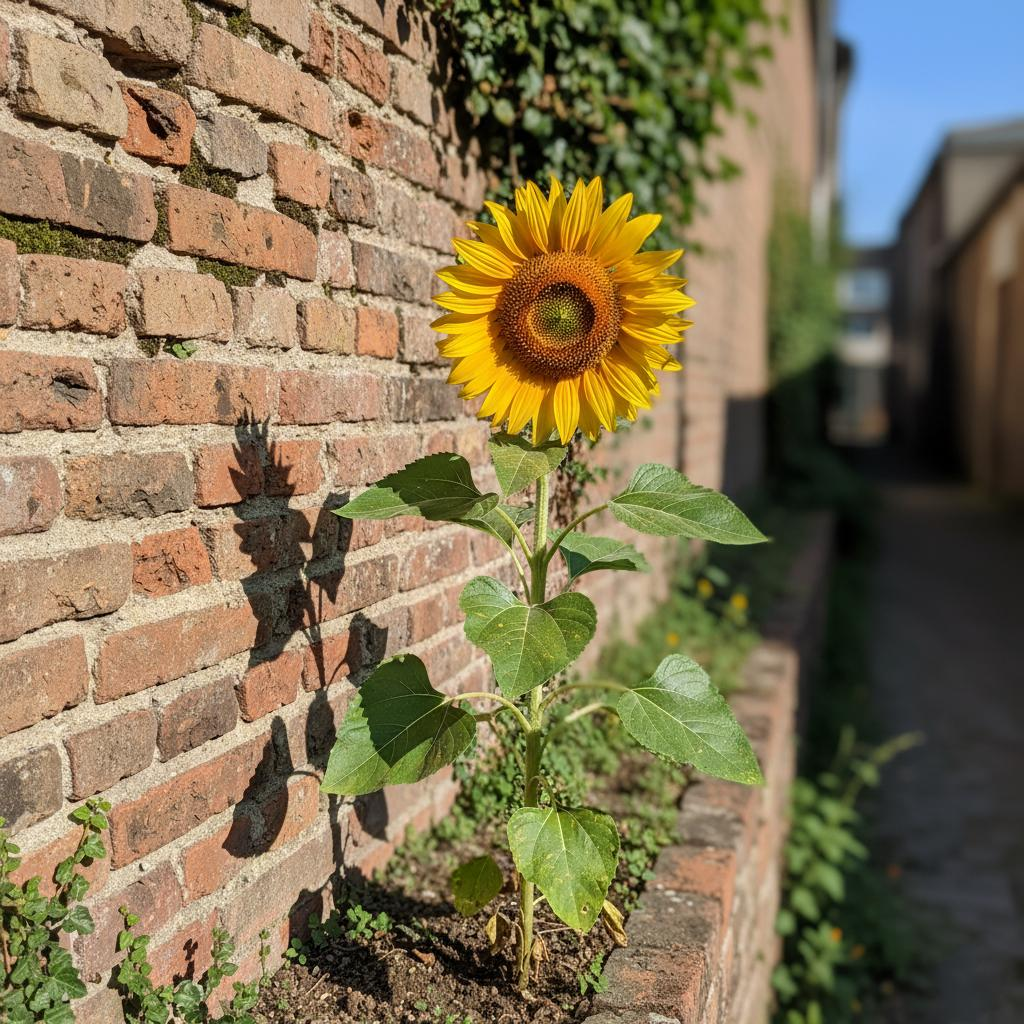sunflower: (428, 172, 695, 446)
